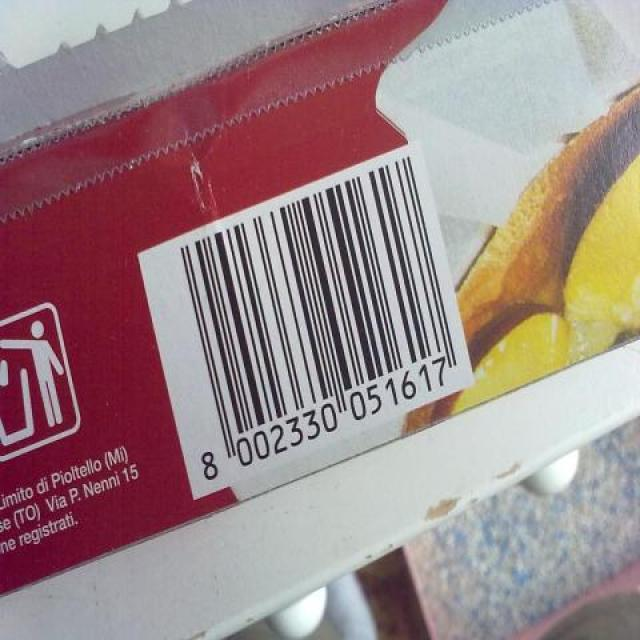Barcode: (136, 138, 472, 505)
